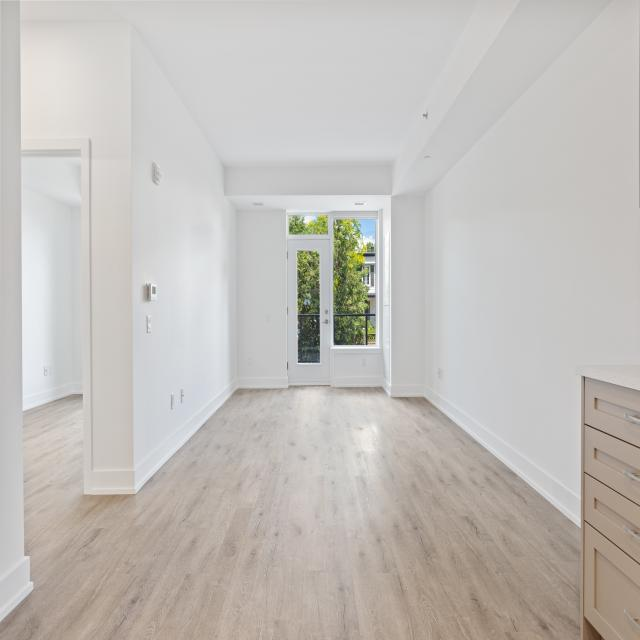floor: (0, 385, 582, 640)
